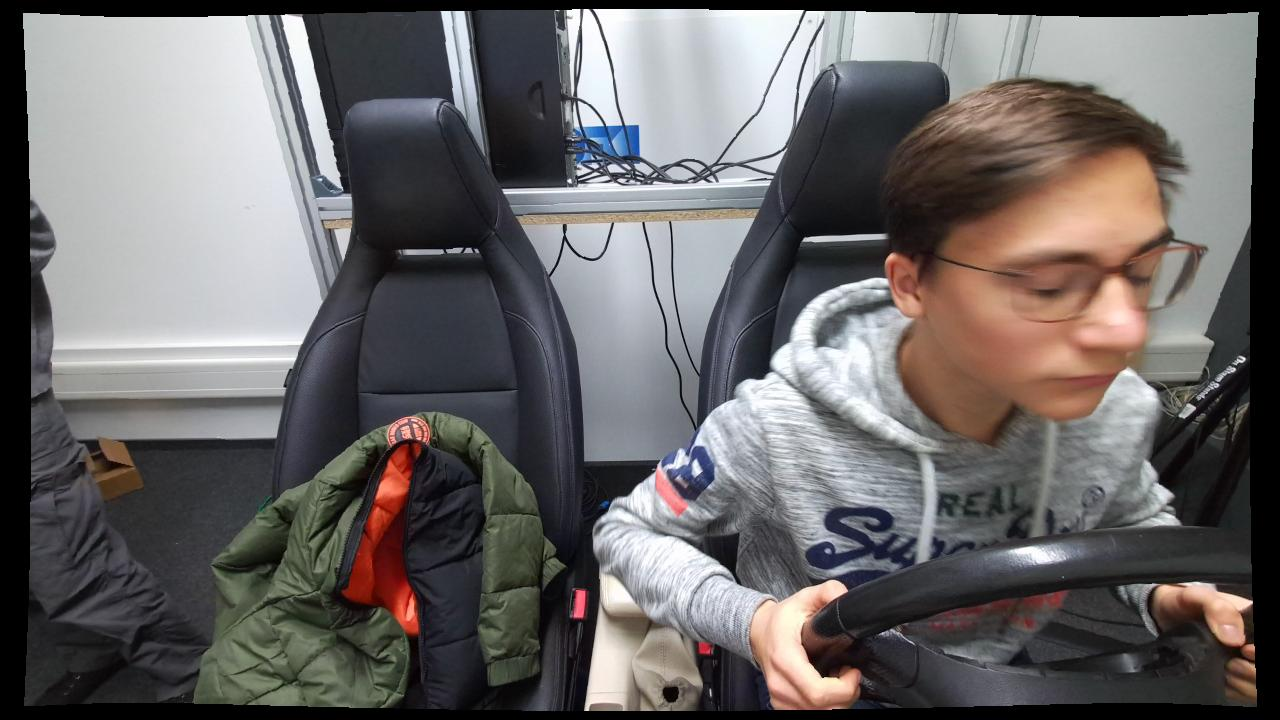Distracted: (591, 81, 1210, 715)
